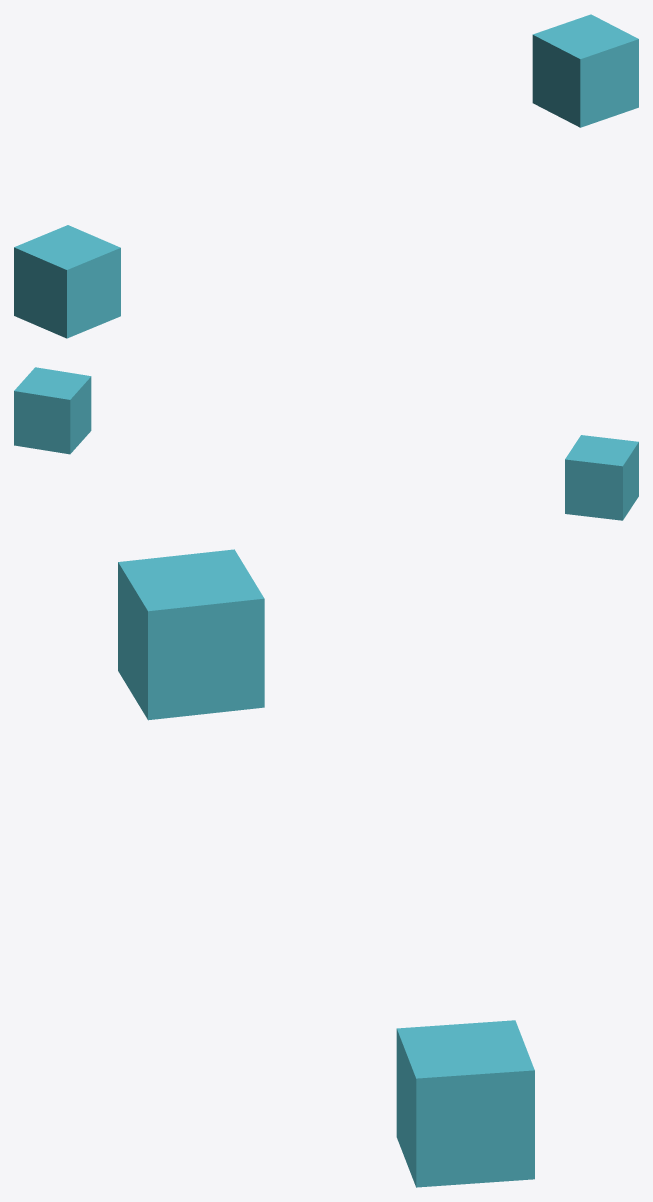
The model's file is 874_chimney.glb.
3 renders of one model, top to bottom at view 1: azimuth 30°, elevation 25°; view 2: azimuth 150°, elevation 25°; view 3: azimuth 270°, elevation 25°, orthographic. The views are drawn at different scales.
Parts seen in each view (by area): view 1: Box001, Box002; view 2: Box001, Box002; view 3: Box002, Box001.
Part boxes in pixels (bbox=[...]): Box001: bbox=[532, 14, 638, 127]; Box002: bbox=[14, 225, 120, 338]; Box001: bbox=[14, 367, 91, 454]; Box002: bbox=[565, 435, 638, 520]; Box002: bbox=[118, 549, 264, 720]; Box001: bbox=[396, 1020, 534, 1187].
Bounding box in the file's own units: 8.65 × 0.8302 × 2.88.
